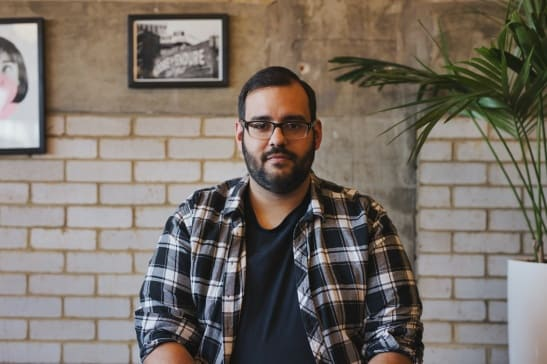person: (147, 70, 427, 364)
